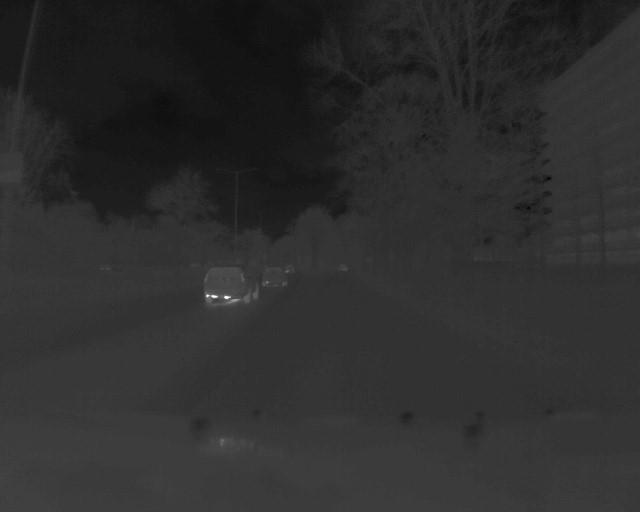car: (202, 265, 262, 306)
